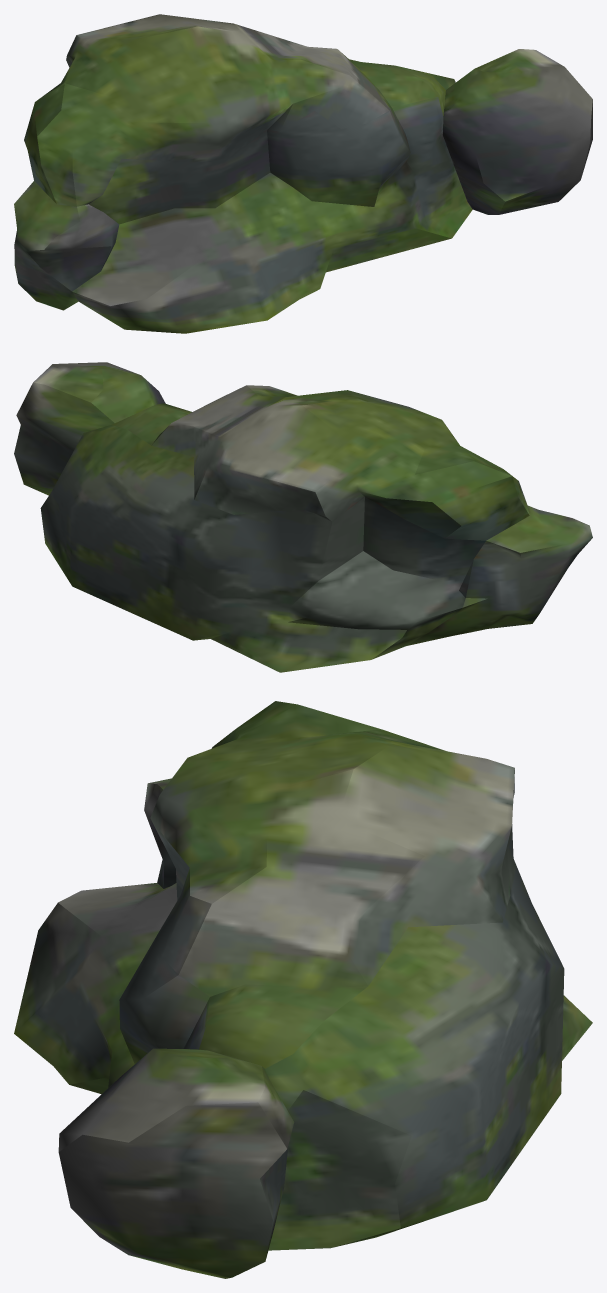
The model's file is map_112_shitou_1.fbx.
The picture shows the model from 3 angles, top to bottom: view 1: azimuth 30°, elevation 25°; view 2: azimuth 150°, elevation 25°; view 3: azimuth 270°, elevation 25°; orthographic projection. The views are drawn at different scales.
Visible parts, largest first — view 1: map_112_shitou_1; view 2: map_112_shitou_1; view 3: map_112_shitou_1.
Part boxes in pixels (x1,y1,x2,y2): map_112_shitou_1: [14, 14, 592, 333]; map_112_shitou_1: [14, 362, 592, 672]; map_112_shitou_1: [14, 701, 592, 1278].
Size of the model in its own units: 2.86 by 0.9859 by 1.74.
